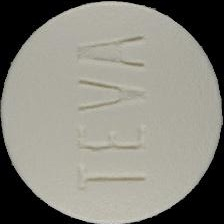68258-7096: (0, 0, 224, 224)
